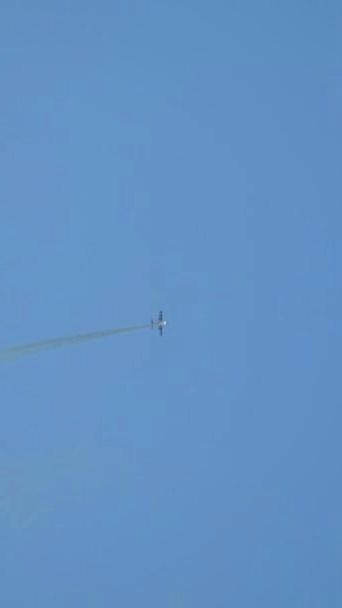Plane: (143, 300, 174, 349)
